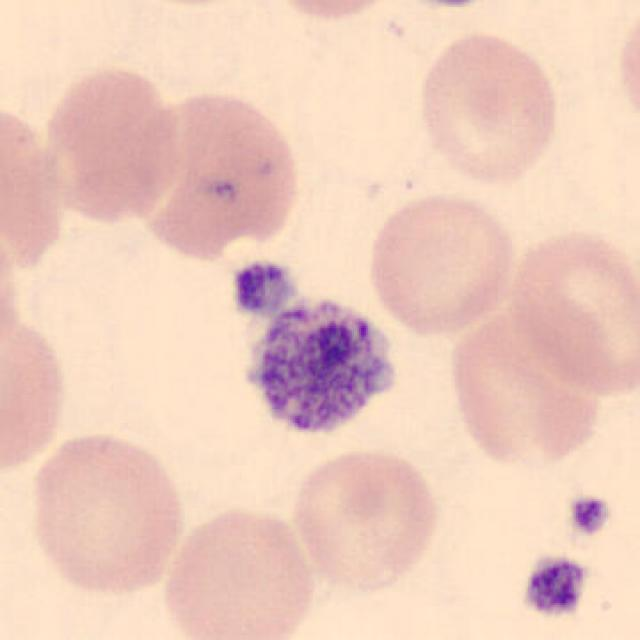Basophil: (222, 281, 412, 458)
Lymphocyte: (224, 257, 411, 458)
Platelets: (517, 552, 592, 619), (228, 256, 295, 319), (564, 492, 614, 539)
RBC: (126, 86, 306, 263), (23, 425, 190, 599), (441, 305, 613, 471), (411, 27, 564, 190), (36, 60, 186, 226), (503, 222, 638, 400), (361, 188, 521, 338), (286, 444, 443, 596), (158, 502, 320, 640), (0, 300, 73, 483), (0, 94, 71, 278), (0, 219, 27, 372), (611, 2, 640, 136), (267, 0, 405, 23)
